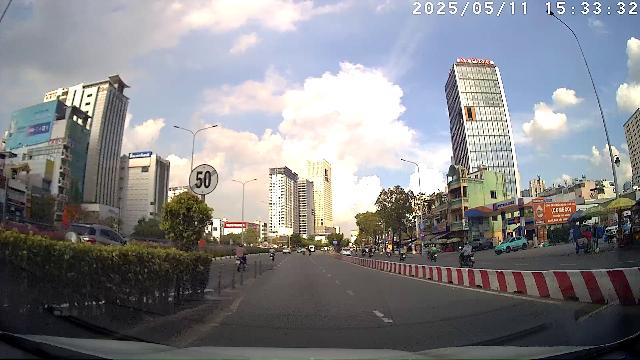134-het-han-che-toc-do-toi-da: (188, 164, 219, 195)
